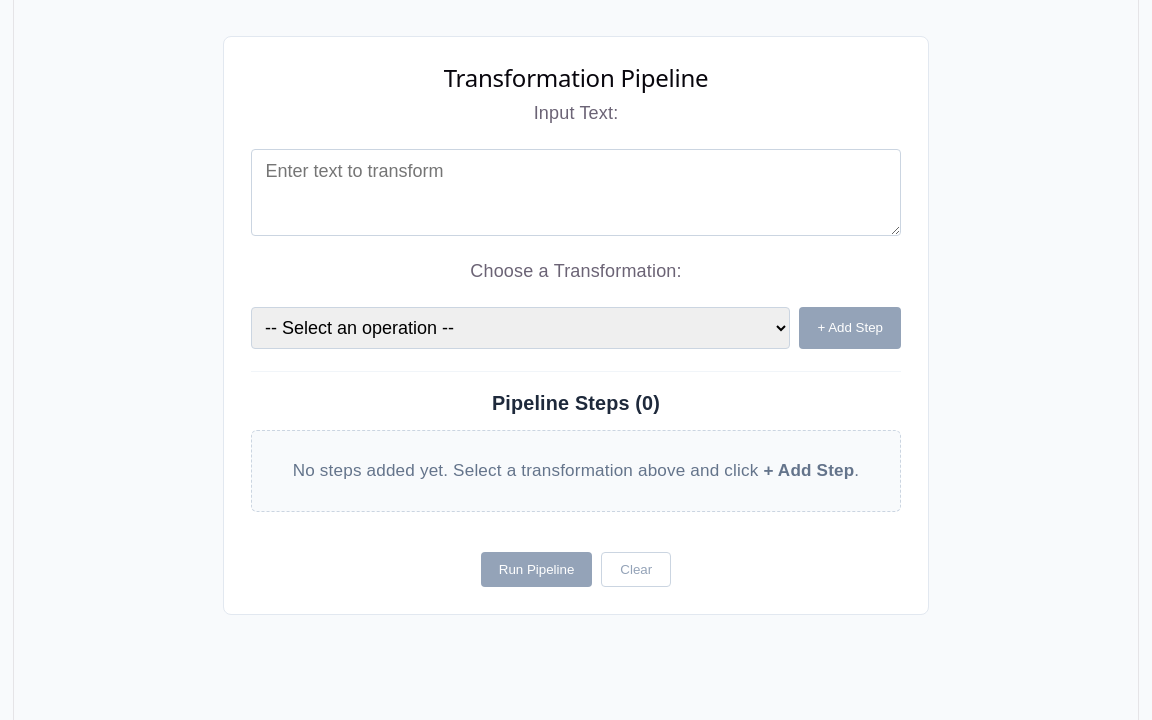
Test: TransformationPipeline › running the pipeline › shows a run error under the button and keeps the steps visible
Type "banana" into the text box with id "input-text".
click(576, 192); type("banana")  # box top-left (251, 149), bottom-right (901, 236)
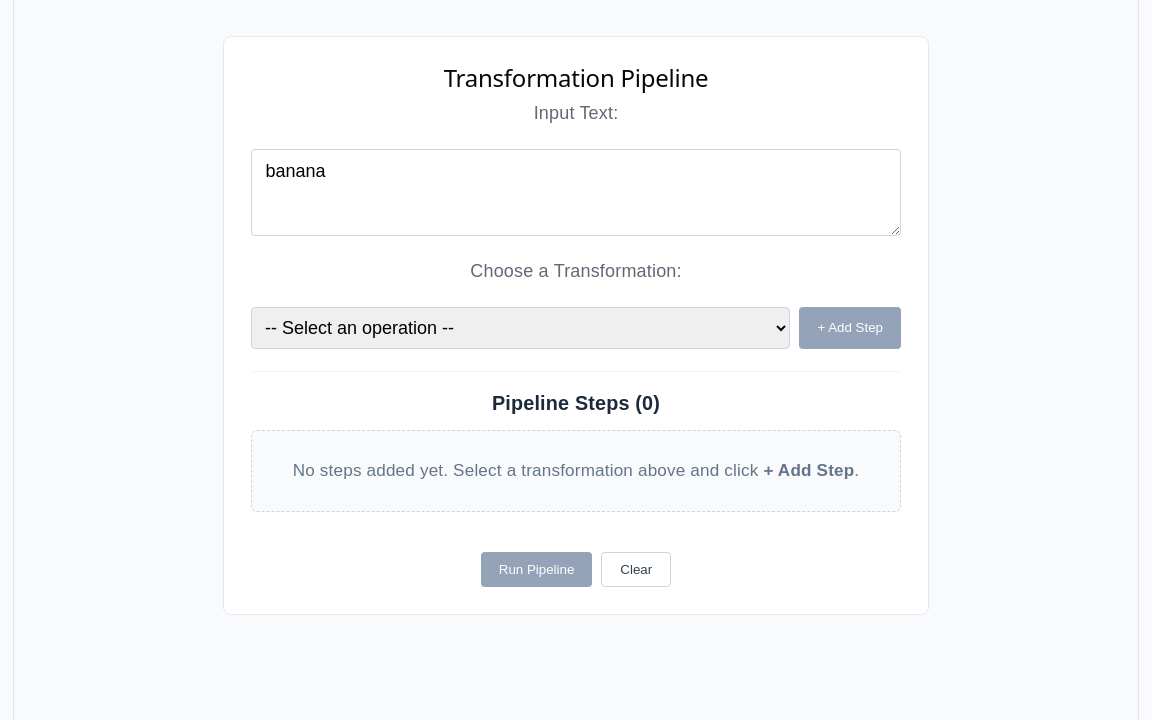
Select "Uppercase" in the dropdown labelled "Choose a Transformation:" at [521, 328], box top-left (251, 307), bottom-right (790, 349)
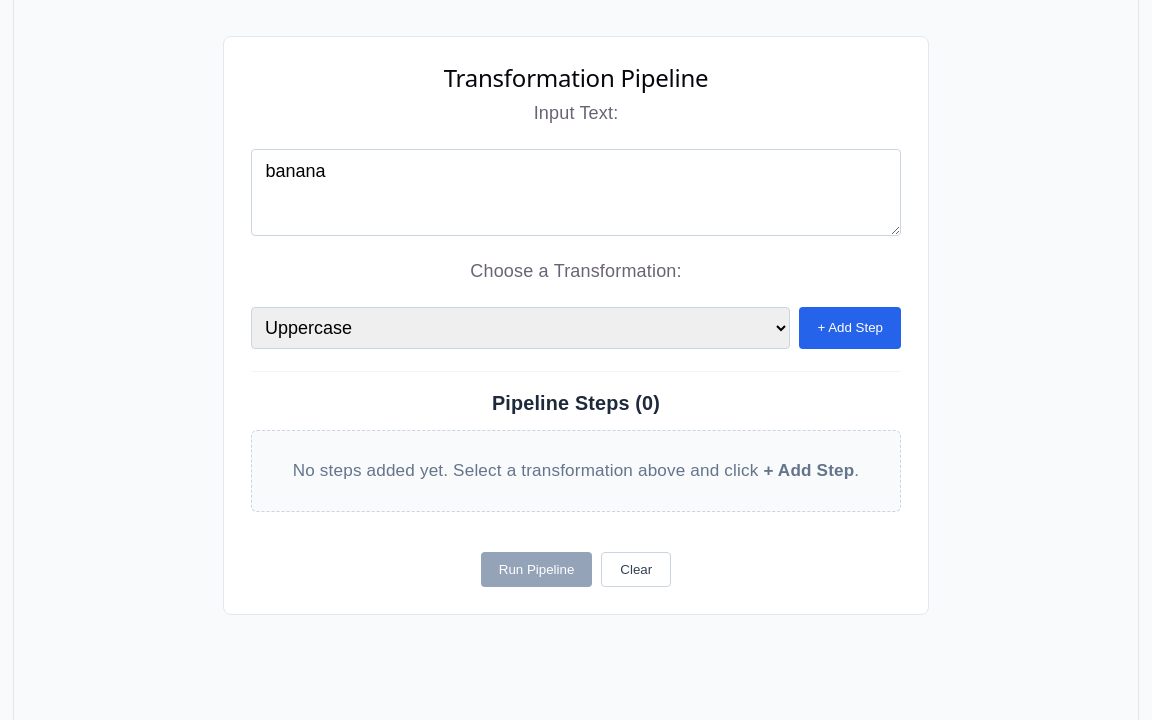
Click the button "+ Add Step".
click(850, 328)  # box top-left (799, 307), bottom-right (901, 349)
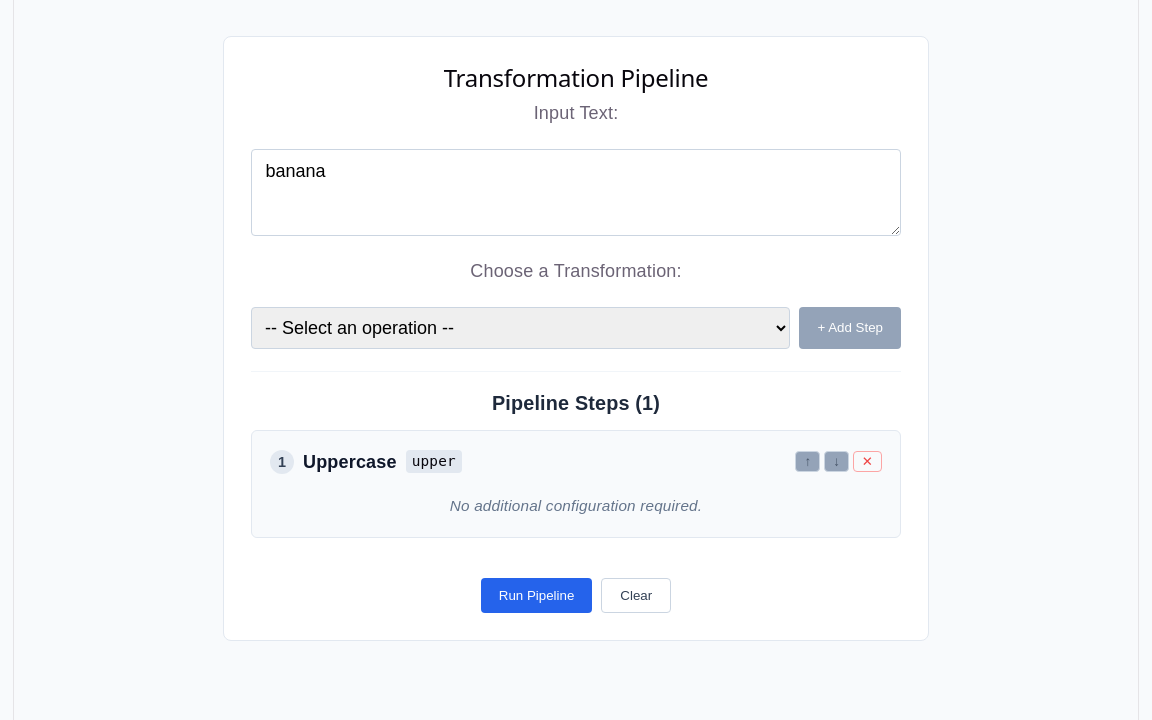
Click the button "Run Pipeline".
click(537, 596)  # box top-left (481, 578), bottom-right (592, 613)
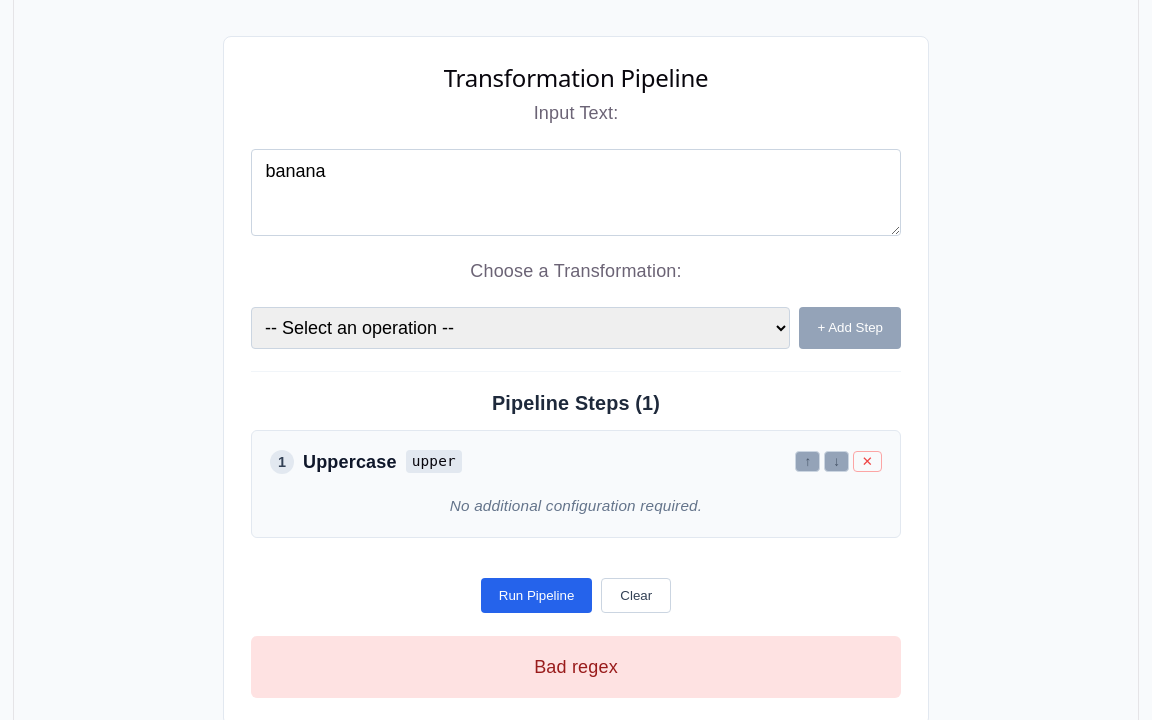
Expected: the message with class "run-error" reads "Bad regex", top-left (534, 657), bottom-right (618, 677)
